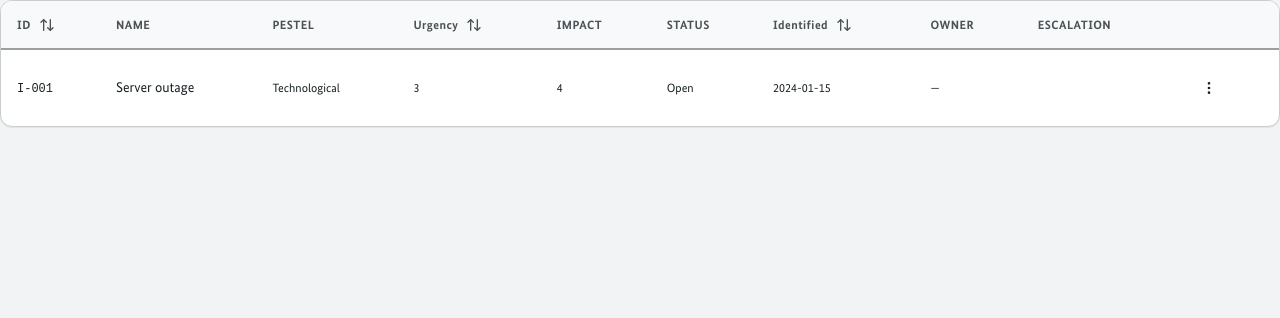
Test: IssueManagementTable › shows create-problem menu item for issues with non-terminal status
Click the button named "row actions for" at (1209,88), box top-left (1187, 66), bottom-right (1231, 110)
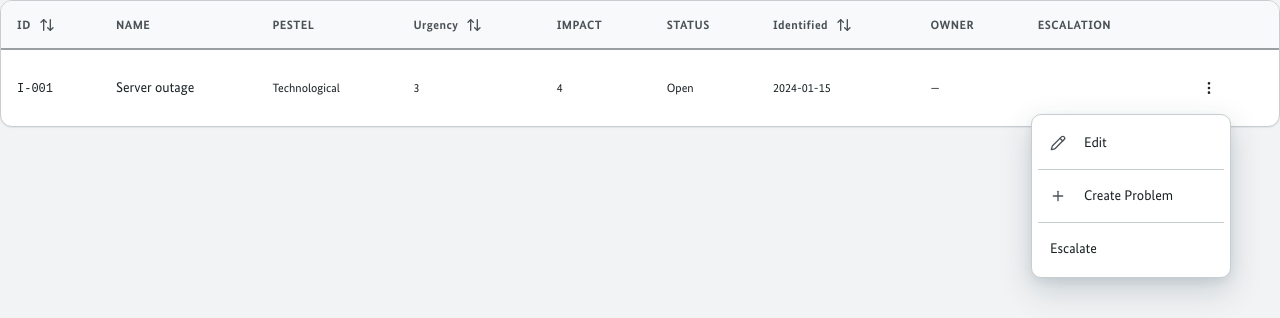
Check: the menu item "Create Problem" is shown, box top-left (1050, 187), bottom-right (1173, 204)
